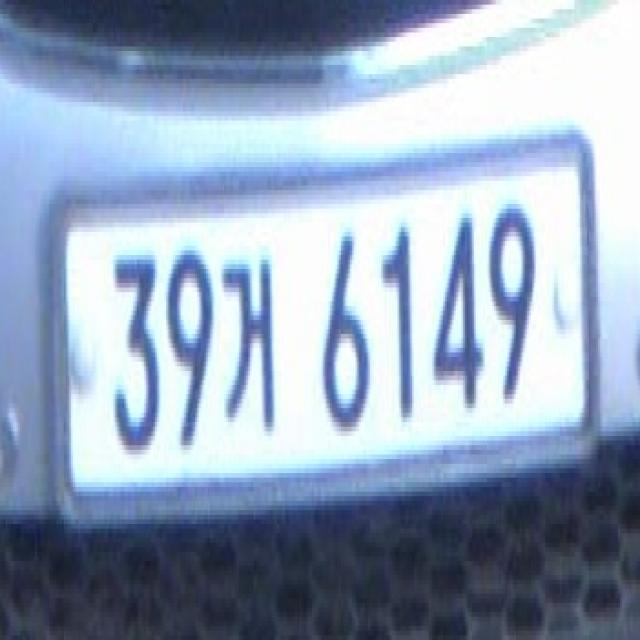1: (381, 223, 416, 427)
3: (110, 255, 162, 455)
4: (432, 214, 487, 418)
6: (317, 232, 372, 436)
9: (487, 195, 538, 403), (166, 241, 215, 450)
geo: (219, 246, 279, 436)
license_plate: (60, 139, 593, 515)
